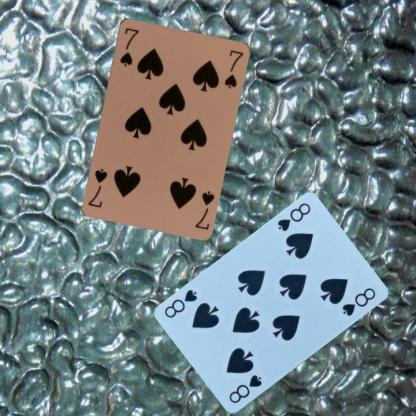7s: (192, 188, 216, 231), (117, 24, 140, 67)
8s: (274, 200, 312, 234), (226, 372, 263, 405)
